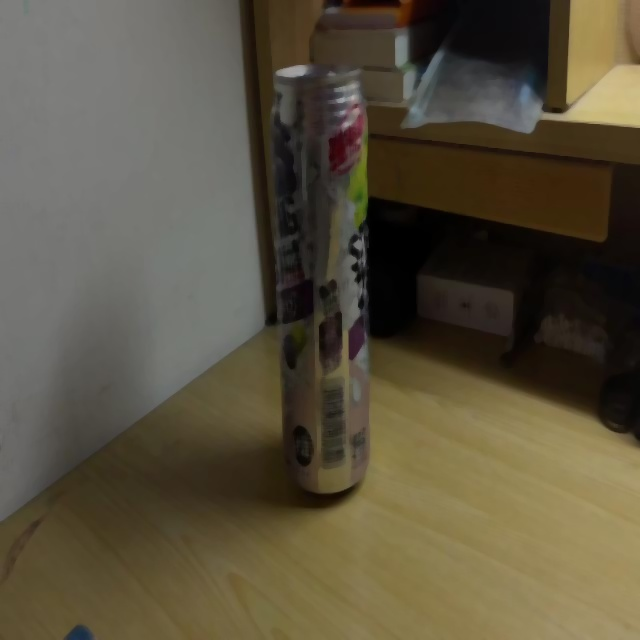Liquor: (268, 59, 372, 498)
